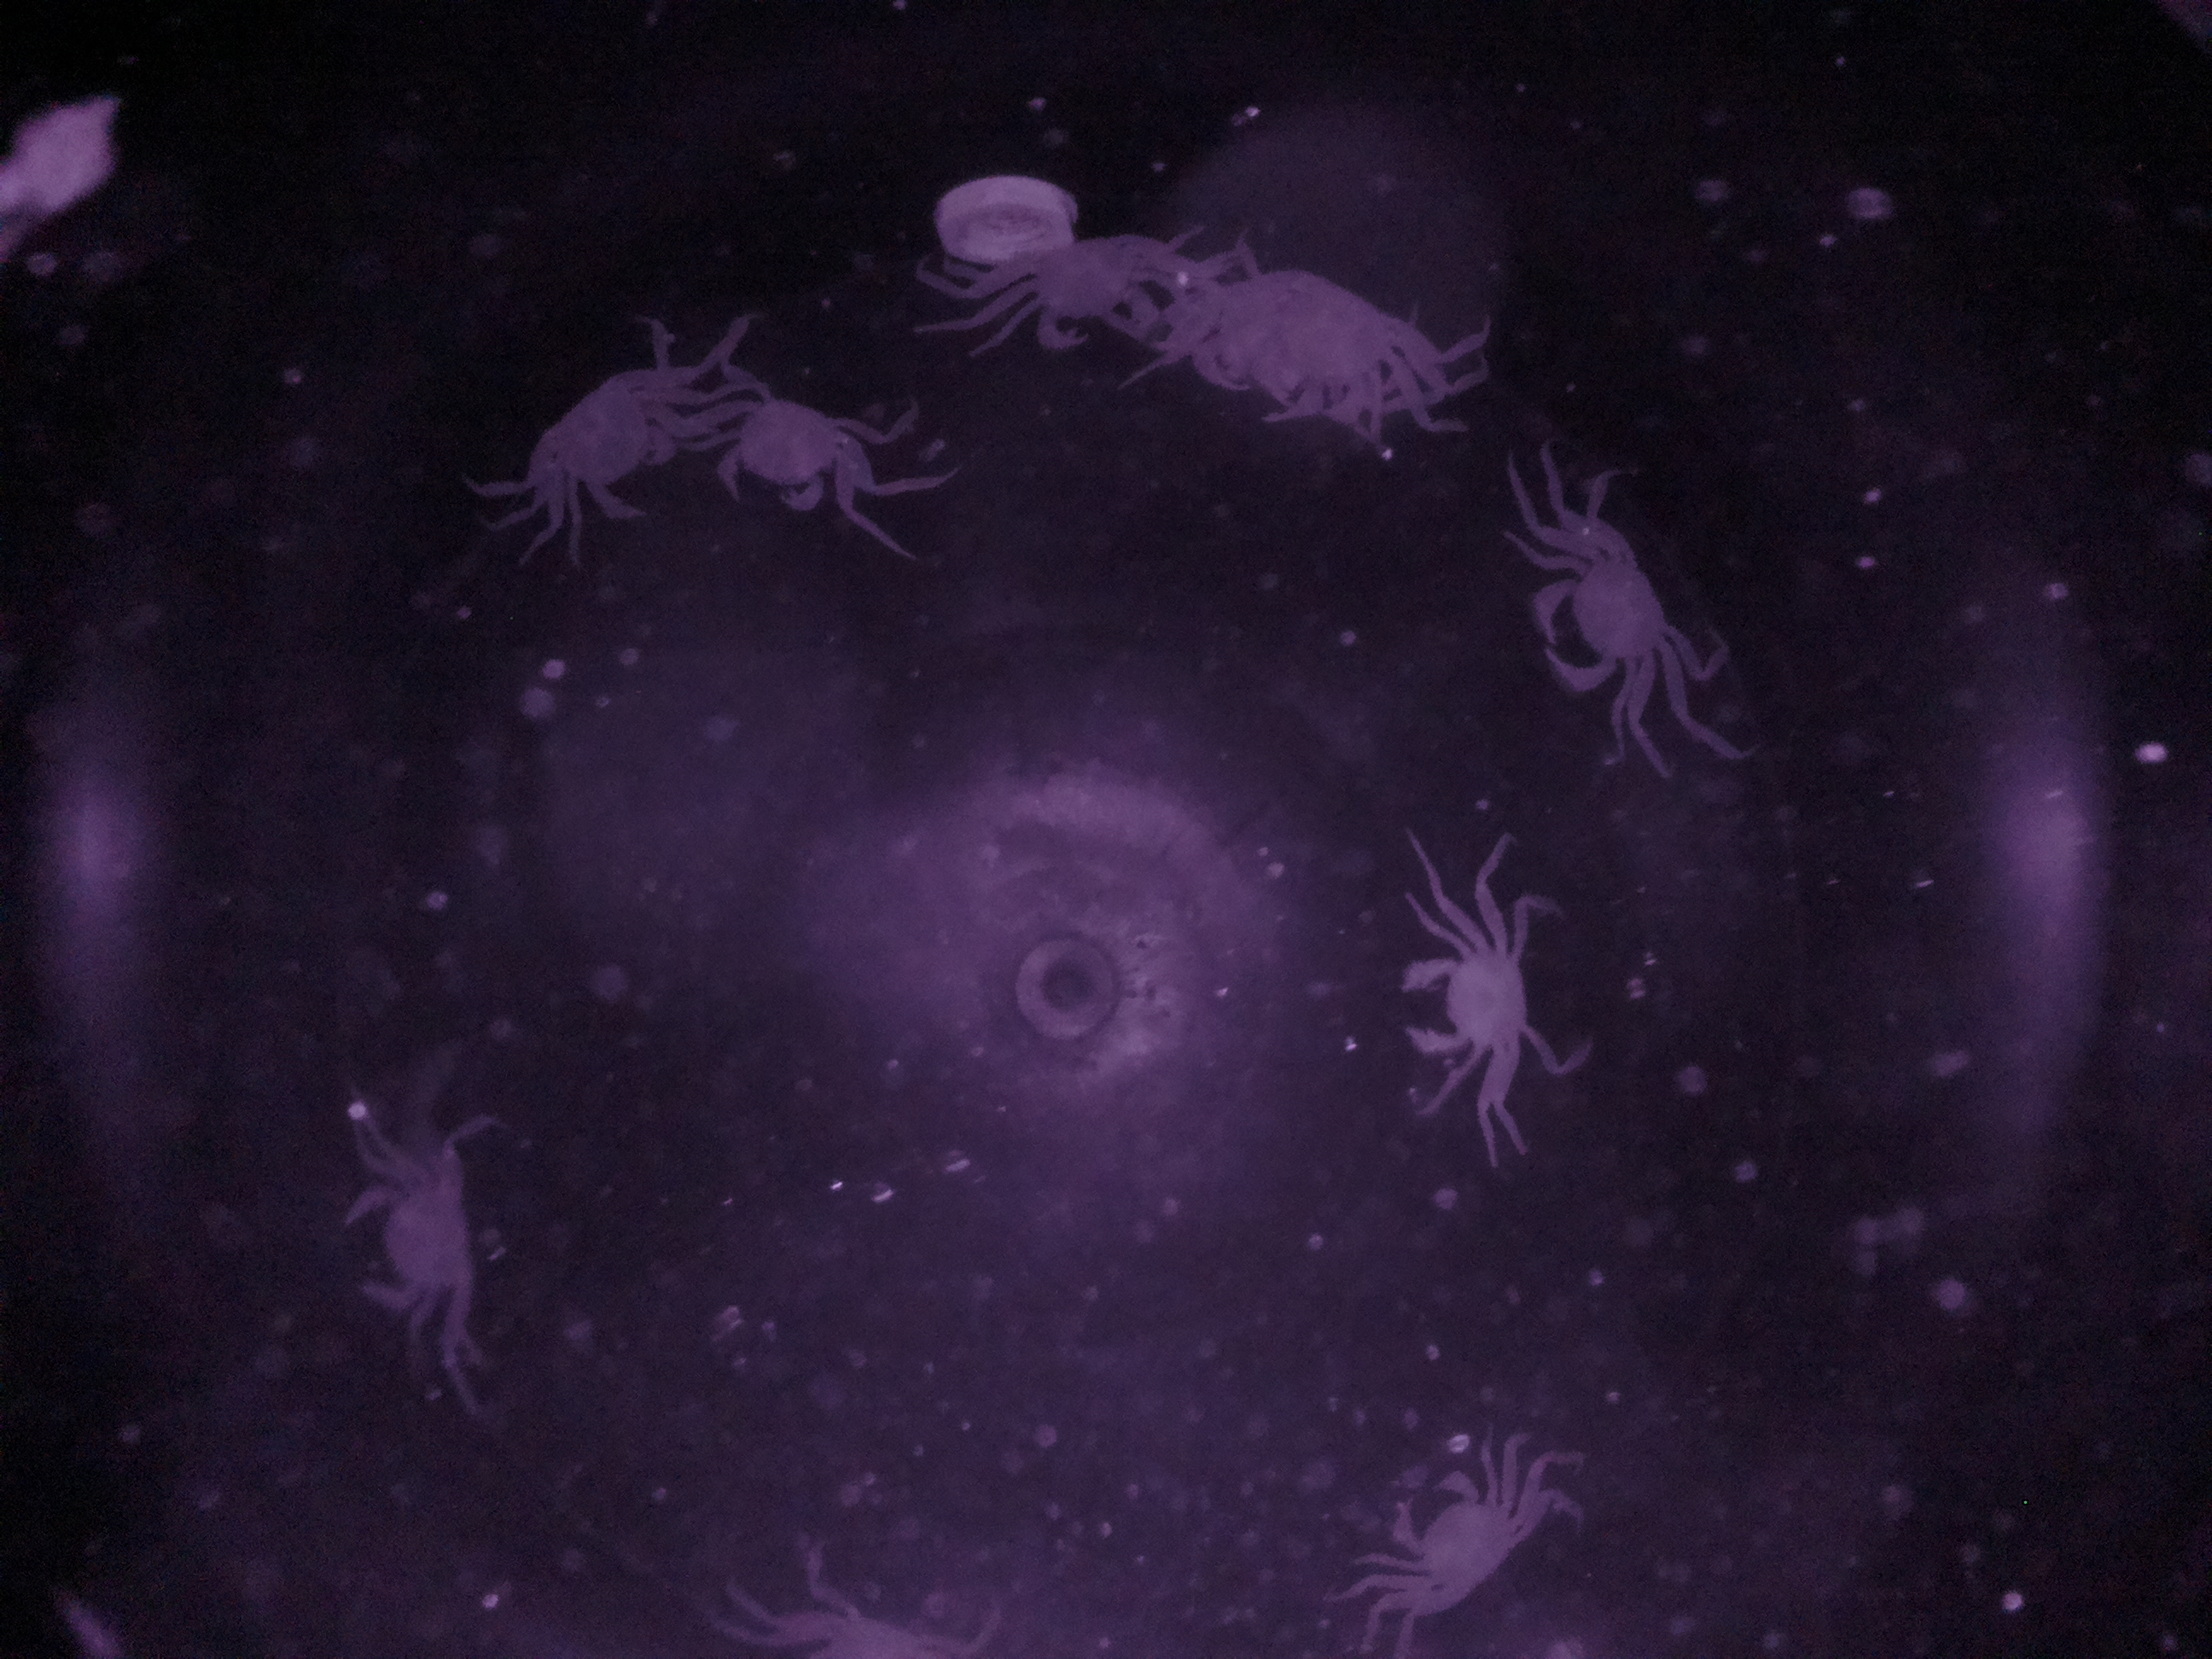Crab: (1362, 1431, 1548, 1642), (1514, 518, 1698, 713), (1383, 896, 1552, 1098), (521, 347, 693, 532), (697, 375, 894, 530)
